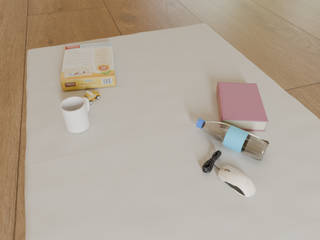book: (217, 82, 268, 131)
bottle: (196, 119, 270, 161)
box: (60, 42, 116, 91)
cup: (60, 97, 90, 133)
mouse: (218, 166, 256, 197)
toy_car: (83, 91, 101, 104)
